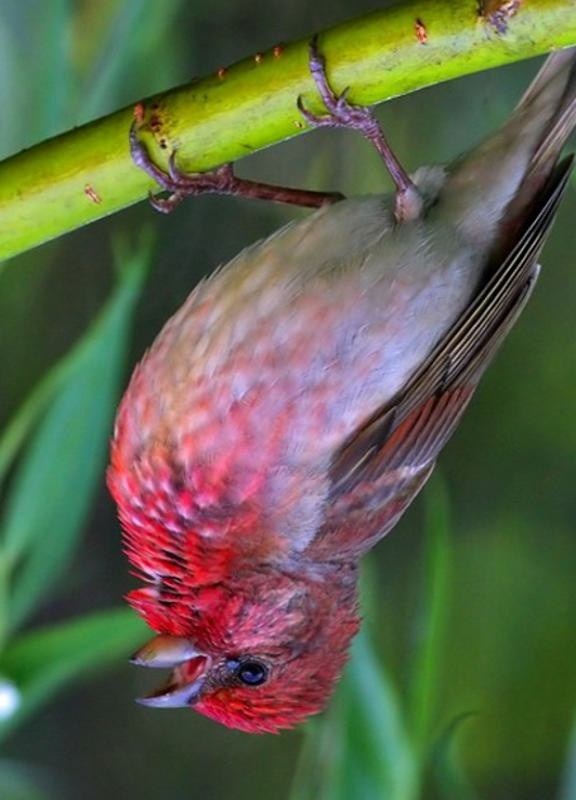rosefinch: (87, 12, 576, 757)
